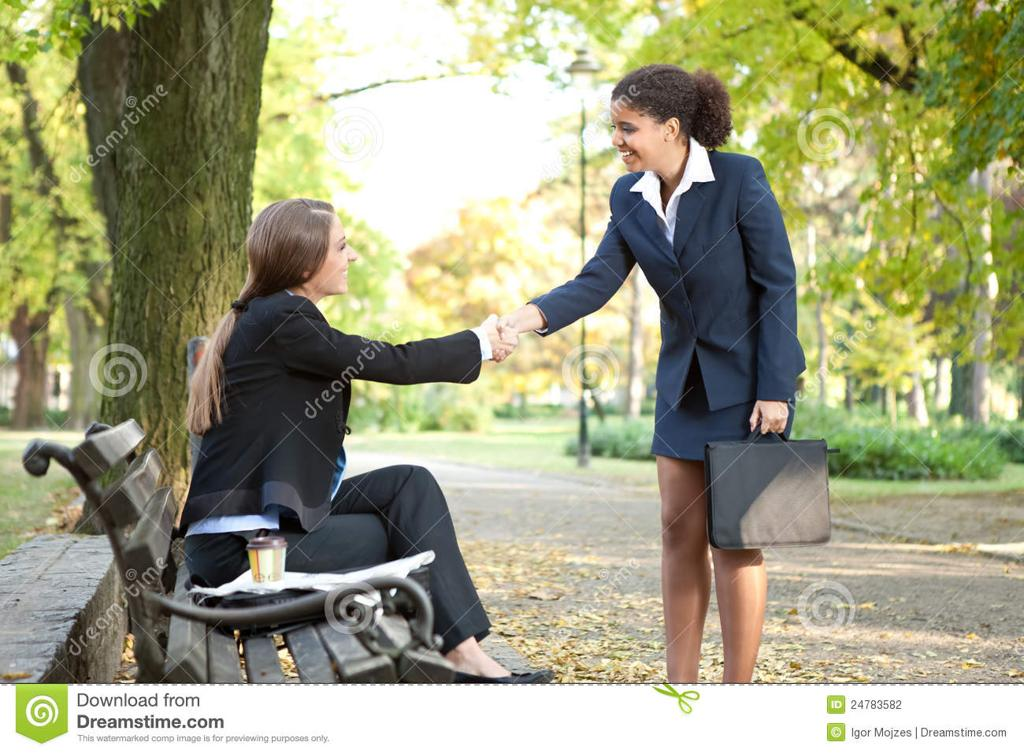face: (609, 98, 664, 172), (309, 215, 359, 294)
